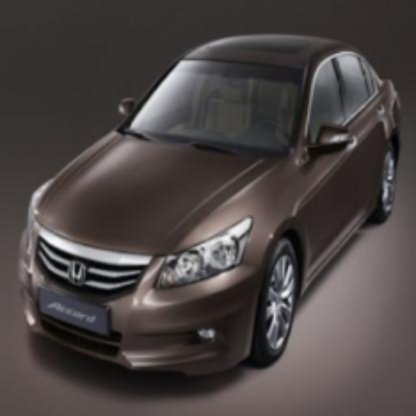Vehicle: (16, 35, 402, 380)
